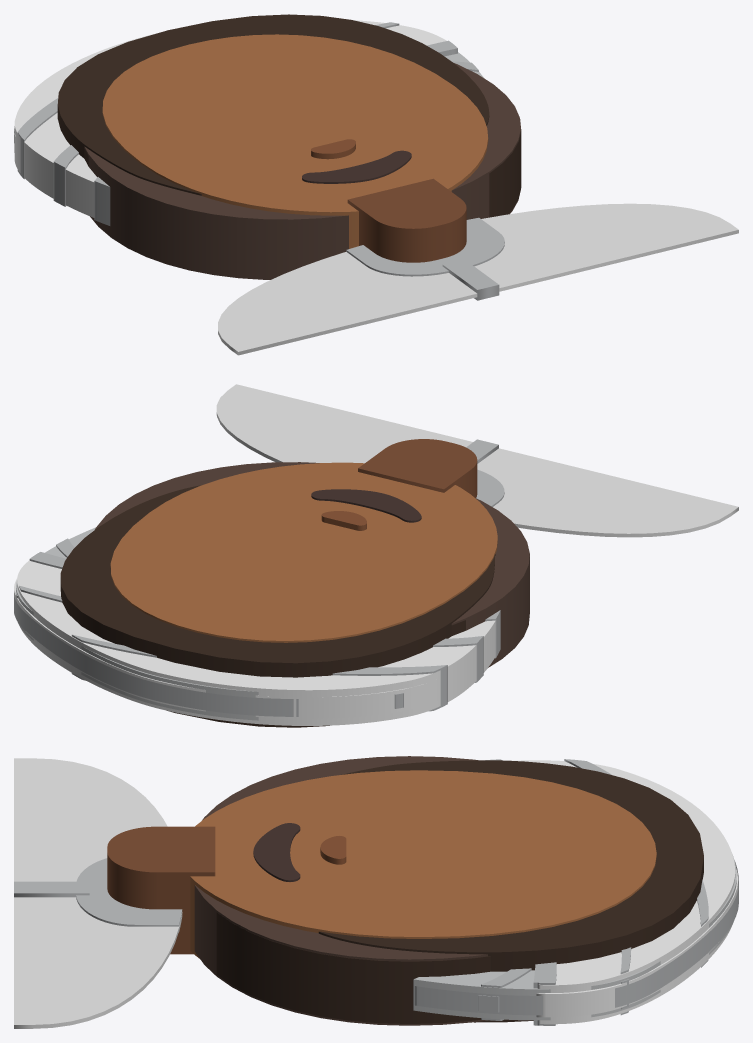
The model's file is emoji_u1f473_1f3fe_200d_2640.glb.
3 renders of one model, top to bottom at view 1: azimuth 30°, elevation 25°; view 2: azimuth 150°, elevation 25°; view 3: azimuth 270°, elevation 25°, orthographic. The views are drawn at different scales.
Parts seen in each view (by area): view 1: emoji_u1f473_1f3fe_200d_2640; view 2: emoji_u1f473_1f3fe_200d_2640; view 3: emoji_u1f473_1f3fe_200d_2640.
Part boxes in pixels (left/top/right/bottom): emoji_u1f473_1f3fe_200d_2640: left=14, top=14, right=738, bottom=355; emoji_u1f473_1f3fe_200d_2640: left=14, top=384, right=738, bottom=727; emoji_u1f473_1f3fe_200d_2640: left=14, top=756, right=738, bottom=1028.
Size of the model in its own units: 0.0294 by 0.0044 by 0.0337.
